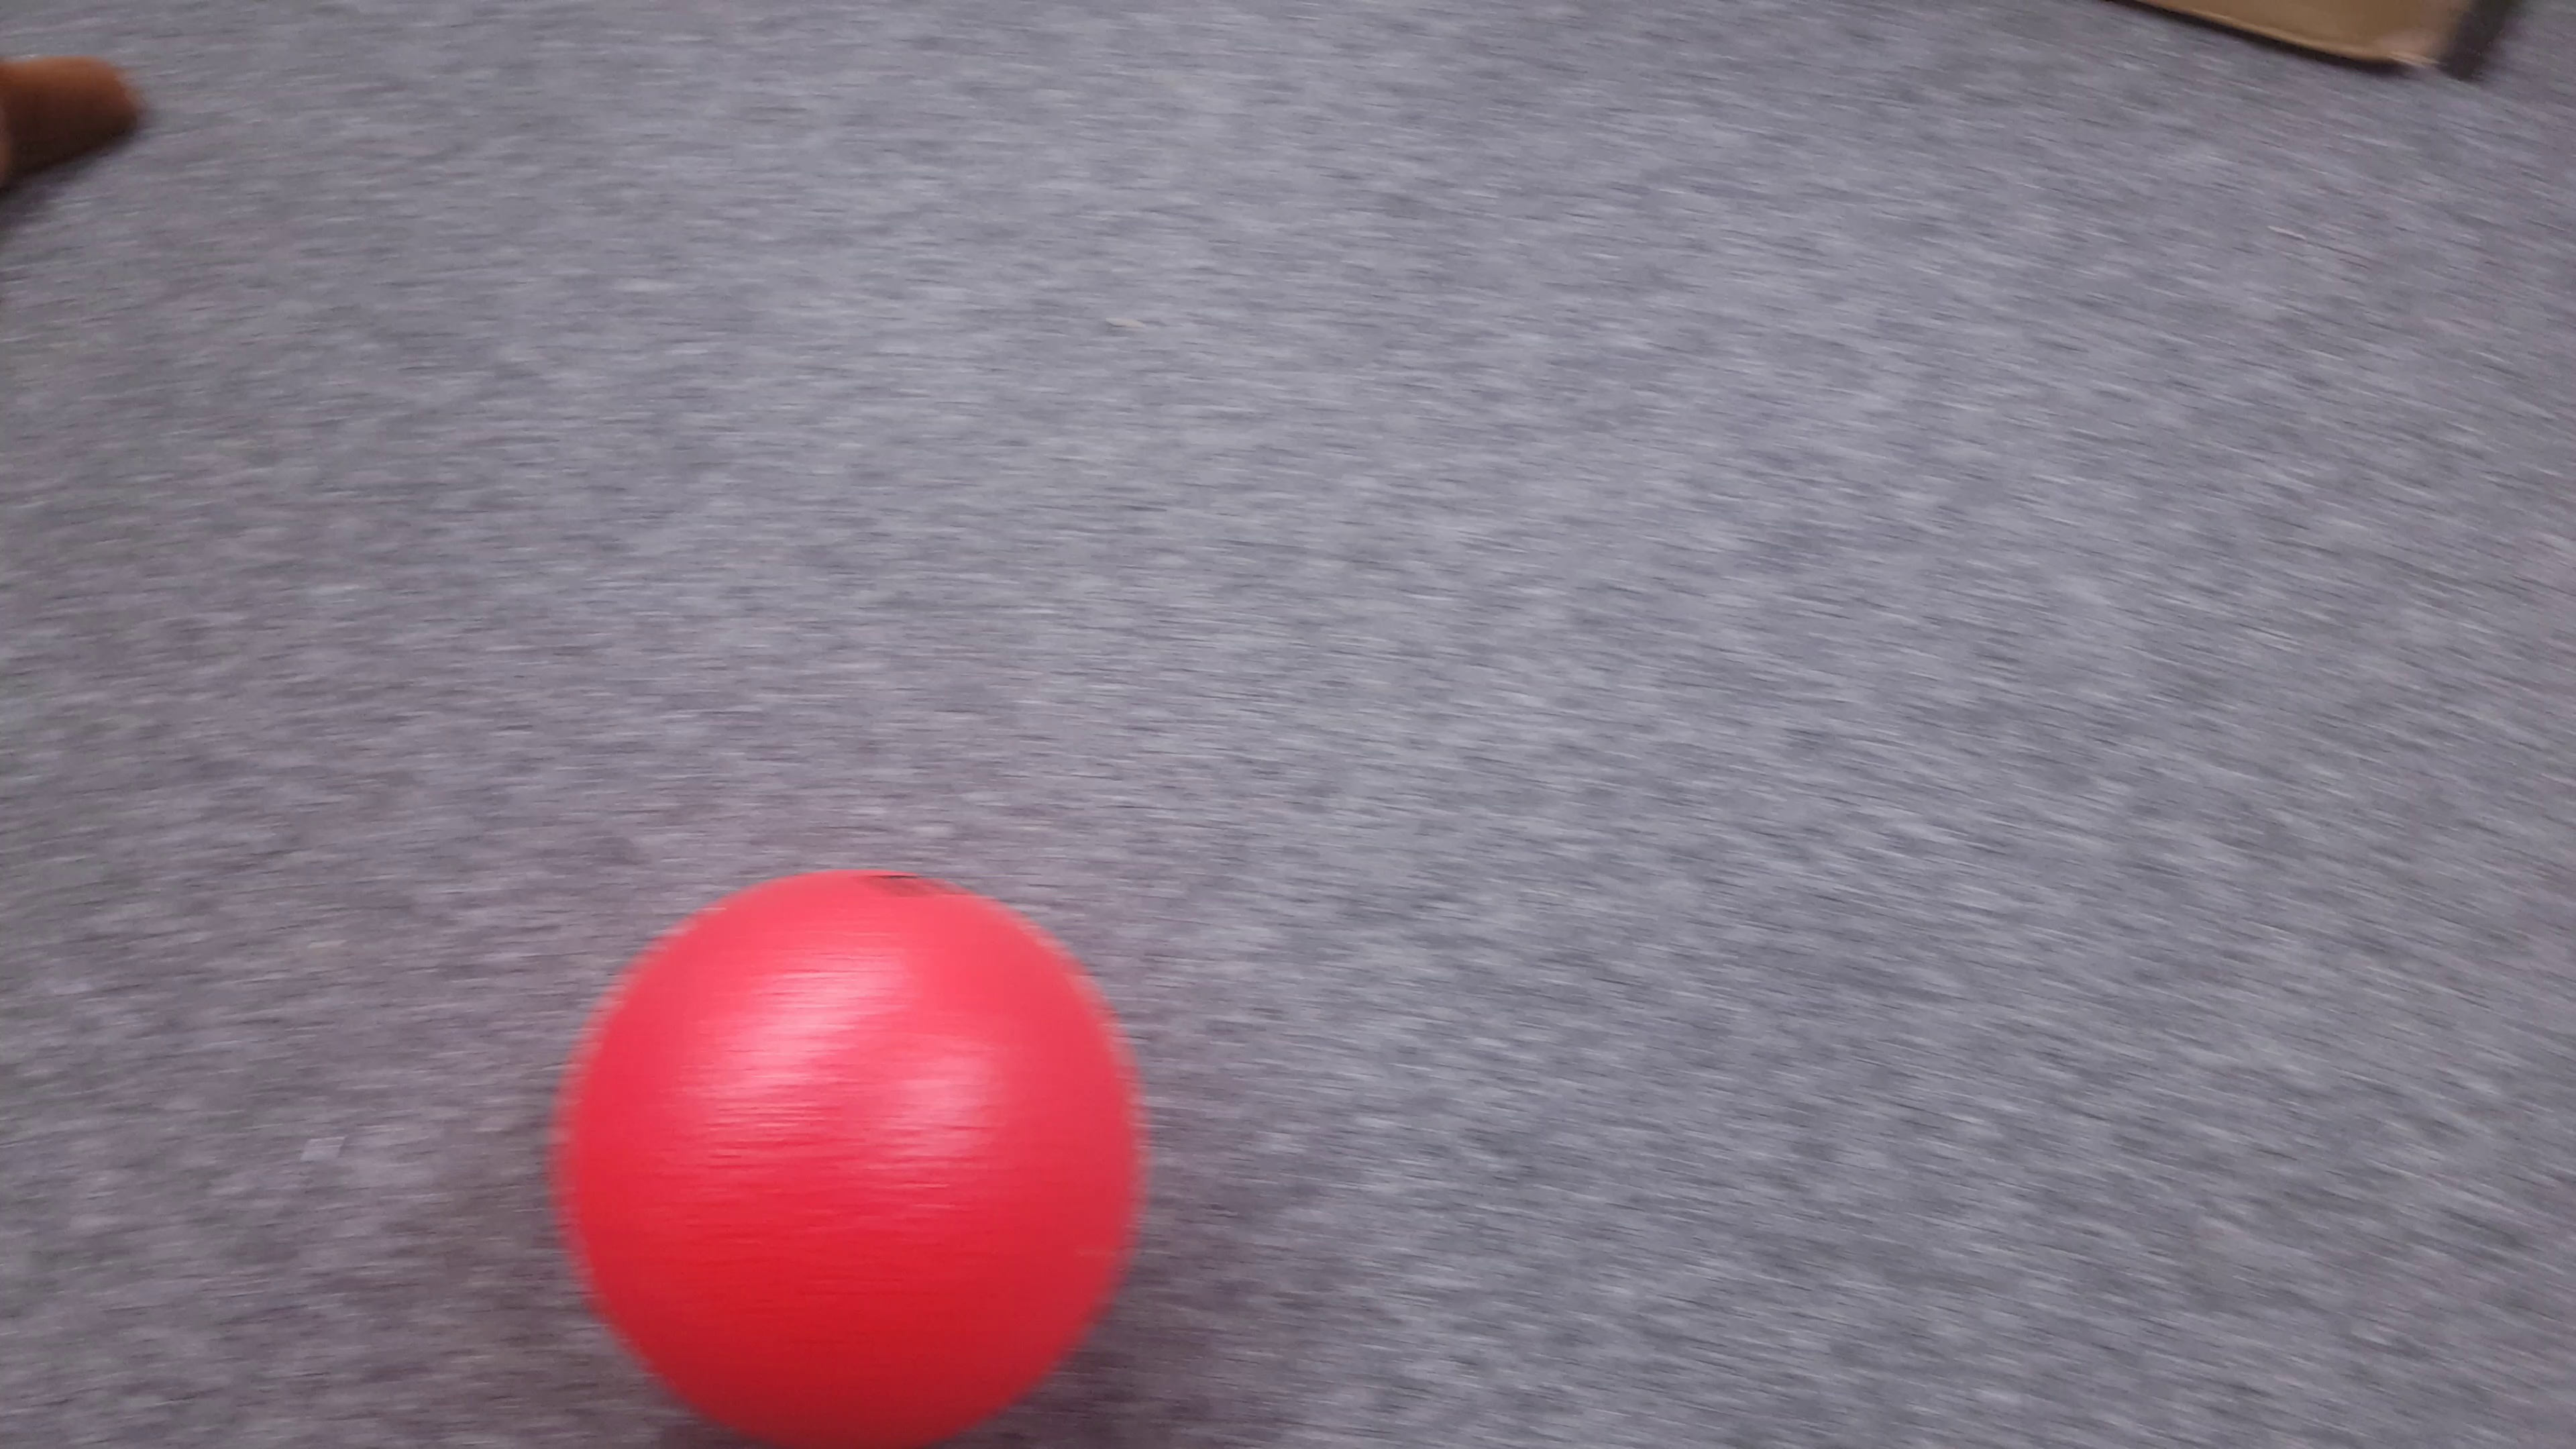kick: (554, 863, 1148, 1445)
